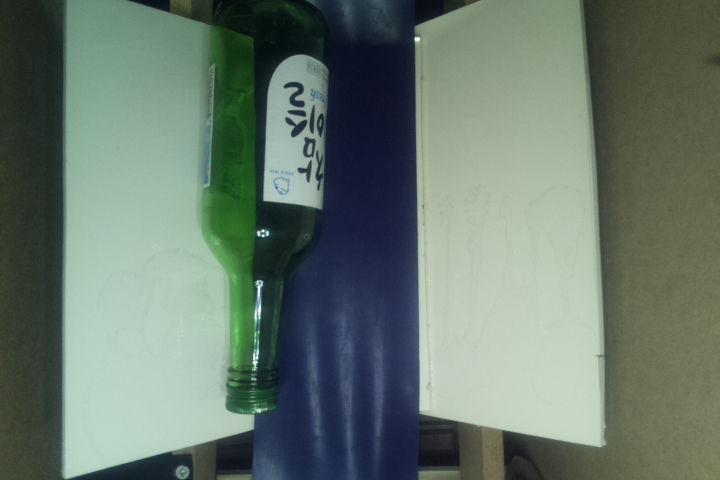soju: (197, 1, 331, 412)
